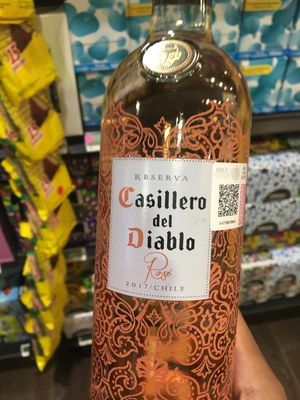casillero del diablo rose: (96, 2, 273, 400)
